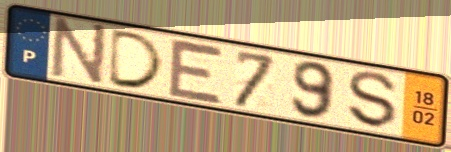7: (233, 49, 279, 110)
9: (290, 60, 338, 122)
D: (105, 27, 168, 92)
E: (165, 35, 227, 108)
N: (47, 15, 111, 89)
S: (346, 69, 400, 131)
